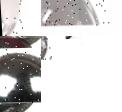ironball: (0, 37, 41, 111), (41, 0, 107, 27), (0, 0, 23, 36)
